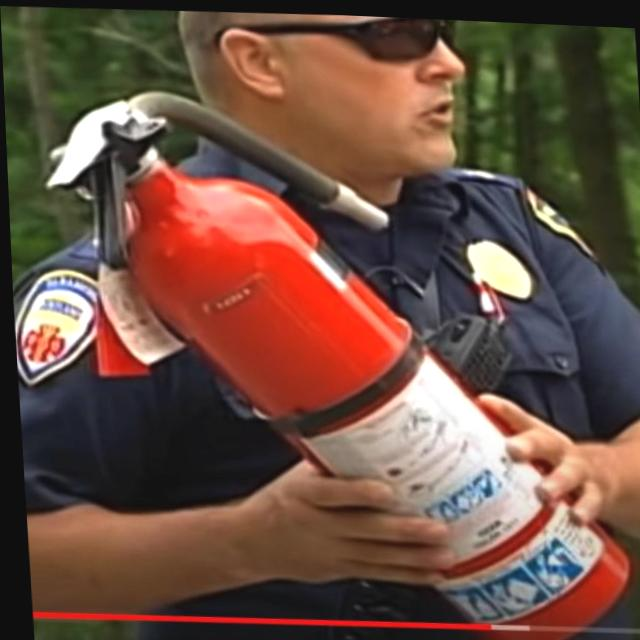FireExtinguisher: (31, 72, 640, 640)
